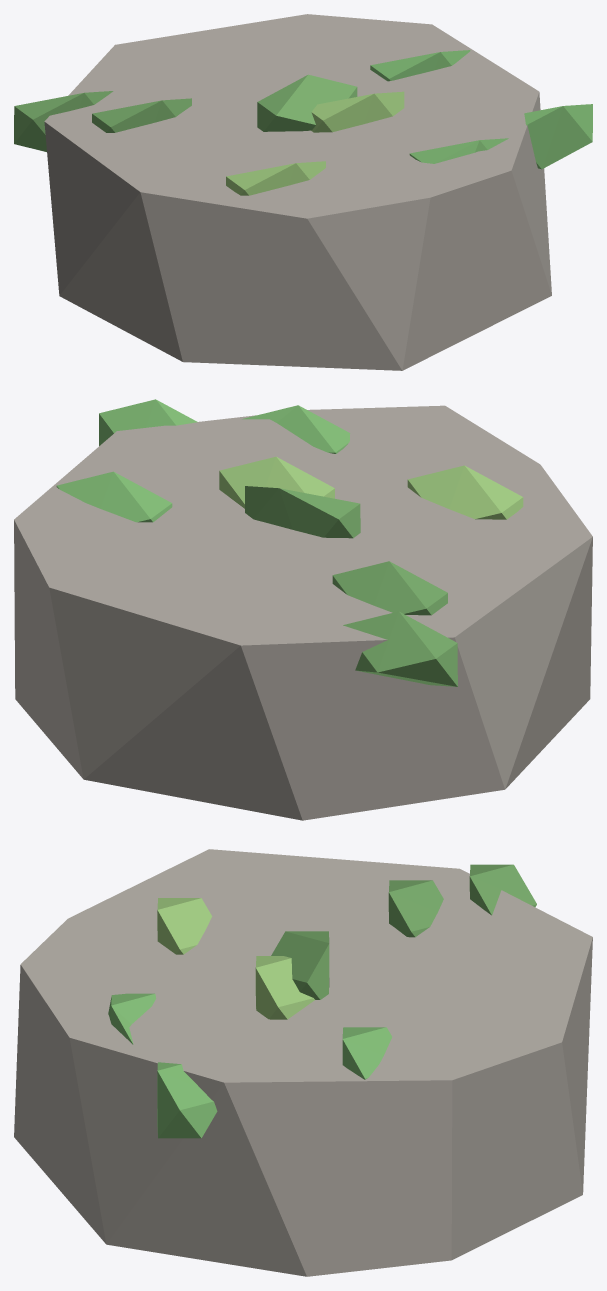
The model's file is 50-Vegetacion_musgo_roca.glb.
3 views of the same model, one above another, from view 1: azimuth 30°, elevation 25°; view 2: azimuth 150°, elevation 25°; view 3: azimuth 270°, elevation 25° (orthographic). The views are drawn at different scales.
Visible parts, largest first — view 1: SM_MusgoRoca_M_MusgoRoca_Piedra, SM_MusgoRoca_M_MusgoRoca_VerdeOs, SM_MusgoRoca_M_MusgoRoca_Verde, SM_MusgoRoca_M_MusgoRoca_Claro; view 2: SM_MusgoRoca_M_MusgoRoca_Piedra, SM_MusgoRoca_M_MusgoRoca_VerdeOs, SM_MusgoRoca_M_MusgoRoca_Verde, SM_MusgoRoca_M_MusgoRoca_Claro; view 3: SM_MusgoRoca_M_MusgoRoca_Piedra, SM_MusgoRoca_M_MusgoRoca_VerdeOs, SM_MusgoRoca_M_MusgoRoca_Verde, SM_MusgoRoca_M_MusgoRoca_Claro.
Part boxes in pixels (x1,y1,x2,y2): SM_MusgoRoca_M_MusgoRoca_Piedra: [44, 14, 551, 370]; SM_MusgoRoca_M_MusgoRoca_VerdeOs: [14, 74, 357, 151]; SM_MusgoRoca_M_MusgoRoca_Verde: [370, 50, 592, 169]; SM_MusgoRoca_M_MusgoRoca_Claro: [226, 91, 404, 195]; SM_MusgoRoca_M_MusgoRoca_Piedra: [14, 405, 592, 820]; SM_MusgoRoca_M_MusgoRoca_VerdeOs: [245, 486, 457, 686]; SM_MusgoRoca_M_MusgoRoca_Verde: [56, 399, 350, 522]; SM_MusgoRoca_M_MusgoRoca_Claro: [219, 456, 523, 519]; SM_MusgoRoca_M_MusgoRoca_Piedra: [14, 849, 592, 1276]; SM_MusgoRoca_M_MusgoRoca_VerdeOs: [271, 864, 536, 999]; SM_MusgoRoca_M_MusgoRoca_Verde: [108, 993, 391, 1138]; SM_MusgoRoca_M_MusgoRoca_Claro: [157, 898, 314, 1019].
Size of the model in its own units: 1.03 by 0.4149 by 1.
